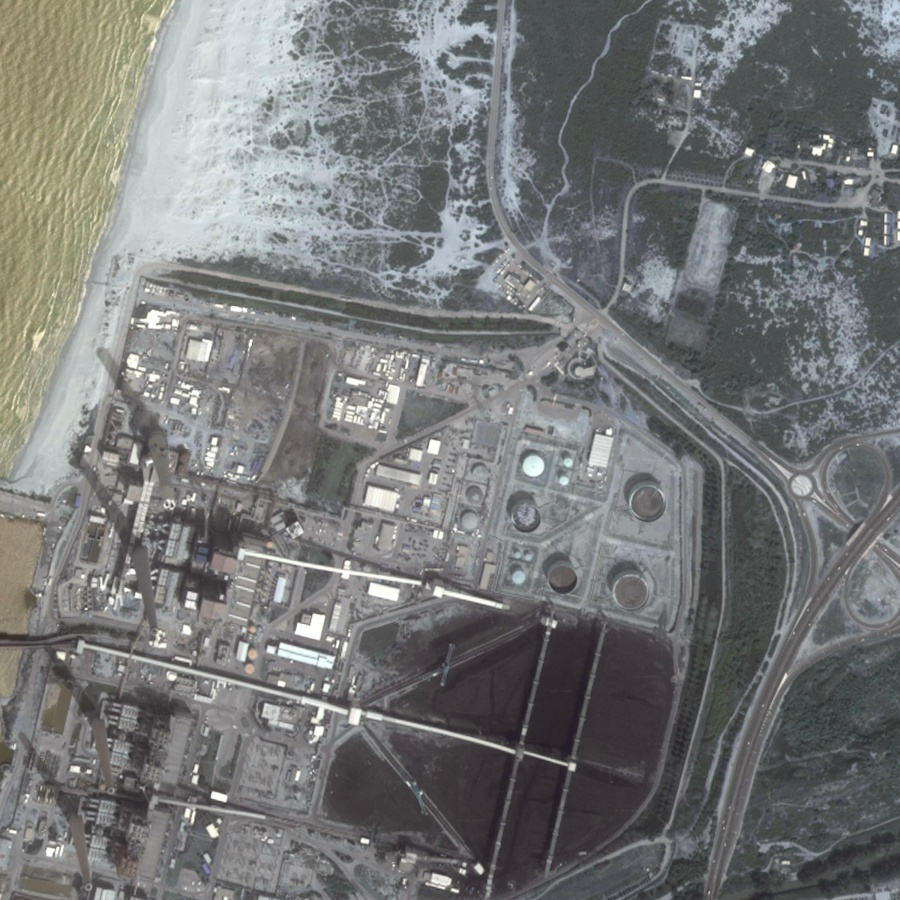PowerPlant: (318, 486, 679, 882)
